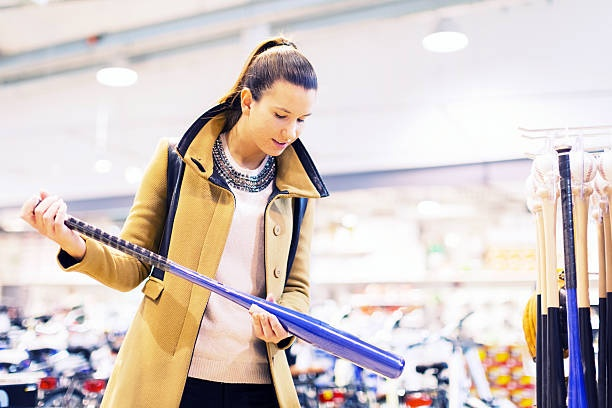bita: (54, 209, 404, 378)
